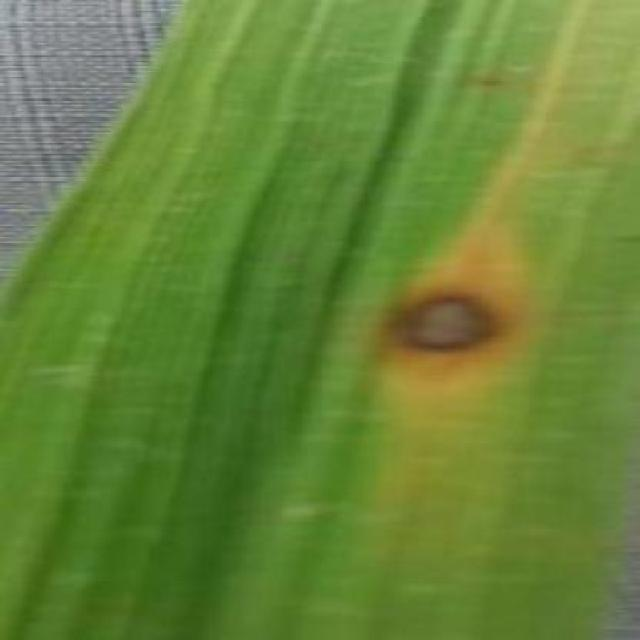Leaf_Blast: (342, 238, 544, 408), (452, 54, 519, 103), (568, 123, 614, 162), (604, 218, 640, 256)
